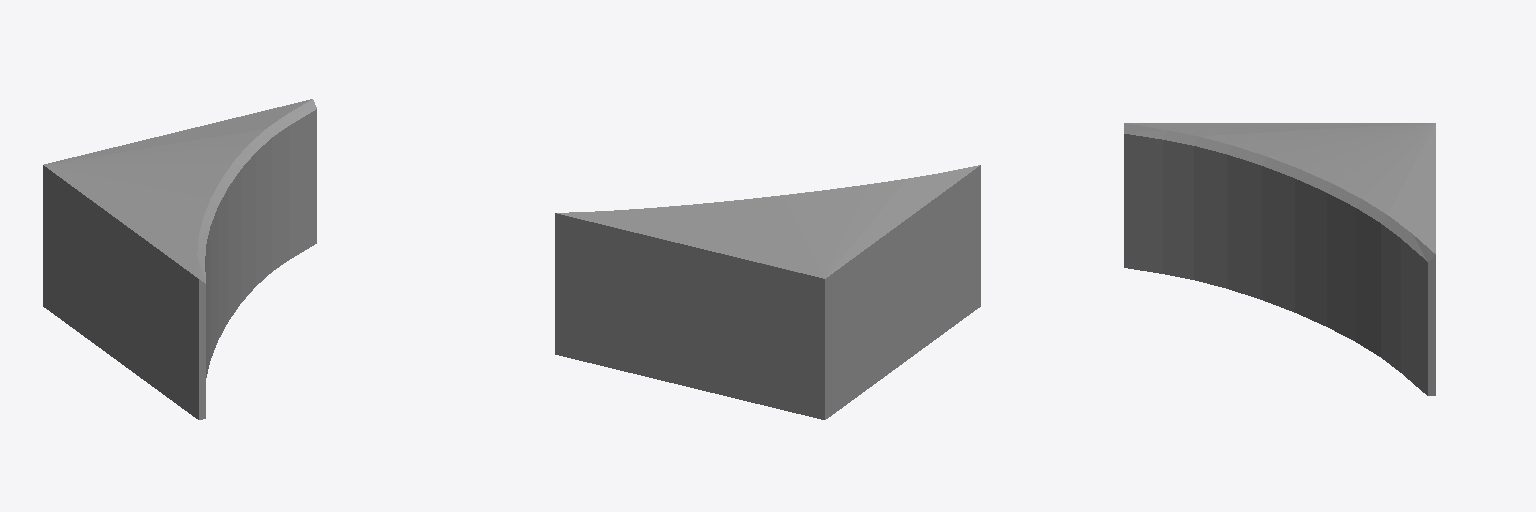
Rendered from bot_curves_left.obj.
3 renders of one model, left to right at view 1: azimuth 30°, elevation 25°; view 2: azimuth 150°, elevation 25°; view 3: azimuth 270°, elevation 25°, orthographic.
Visible parts, largest first — view 1: Left_Cube.002; view 2: Left_Cube.002; view 3: Left_Cube.002.
Boxes of the visible parts, x1=… form: Left_Cube.002: x1=43, y1=99, x2=316, y2=419; Left_Cube.002: x1=555, y1=165, x2=980, y2=419; Left_Cube.002: x1=1124, y1=123, x2=1435, y2=395.
Size of the model in its own units: 4 by 2.1 by 4.